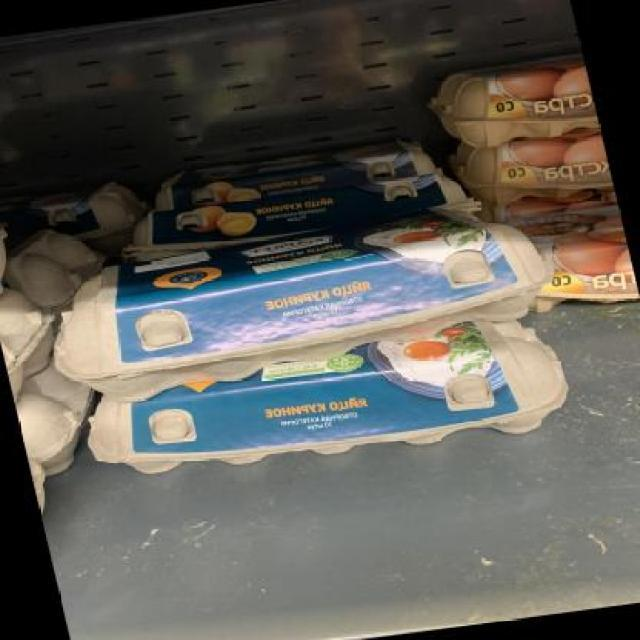egg: (38, 197, 560, 405), (70, 316, 566, 484), (130, 170, 464, 252), (140, 138, 438, 214), (417, 51, 600, 152), (440, 129, 615, 217)
